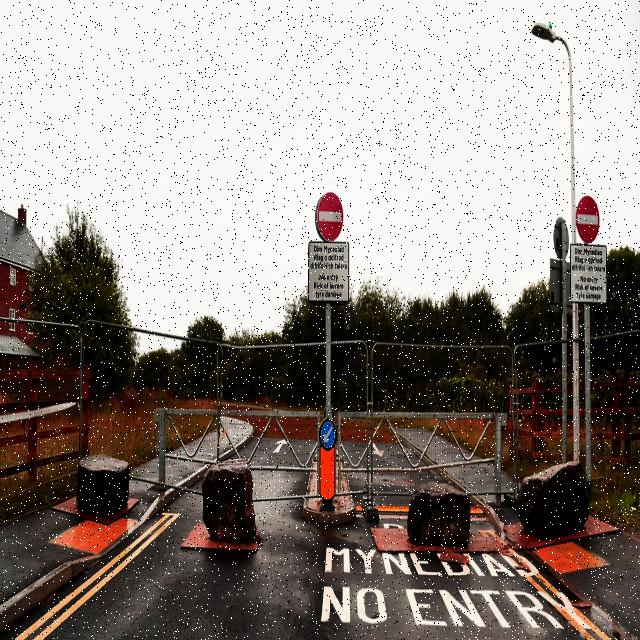no entry: (315, 193, 343, 242), (577, 196, 600, 242)
